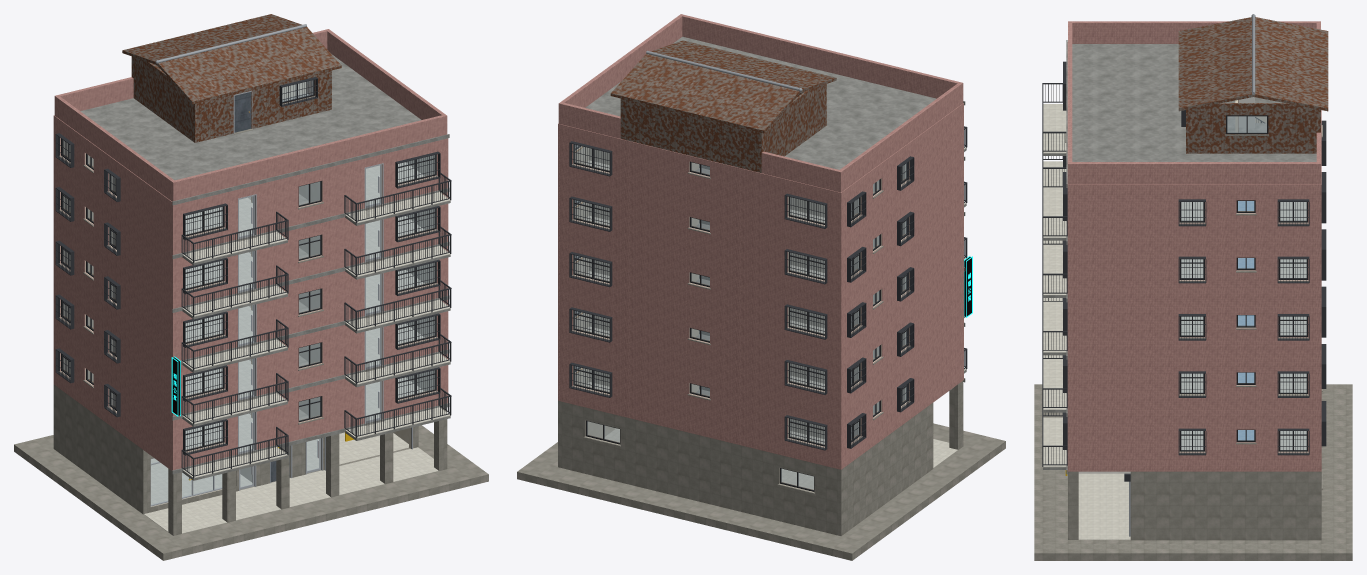
Rendered from b_apt_block_6f.gltf.
The picture shows the model from 3 angles, left to right: view 1: azimuth 30°, elevation 25°; view 2: azimuth 150°, elevation 25°; view 3: azimuth 270°, elevation 25°; orthographic projection. The views are drawn at different scales.
Parts seen in each view (by area): view 1: S_apt_block_6f, D_apt_block_6f_F6_S3_Door0, D_apt_block_6f_F6_S1_Door0, D_apt_block_6f_Shack_S0_Door0, D_apt_block_6f_F5_S3_Door0, D_apt_block_6f_F2_S3_Door0, D_apt_block_6f_F3_S3_Door0, D_apt_block_6f_F2_S1_Door0, D_apt_block_6f_F4_S3_Door0, D_apt_block_6f_F5_S1_Door0, D_apt_block_6f_F3_S1_Door0, D_apt_block_6f_F4_S1_Door0; view 2: S_apt_block_6f; view 3: S_apt_block_6f.
Boxes of the visible parts, x1=… form: S_apt_block_6f: x1=14, y1=14, x2=488, y2=560; D_apt_block_6f_F6_S3_Door0: x1=365, y1=164, x2=381, y2=207; D_apt_block_6f_F6_S1_Door0: x1=238, y1=195, x2=254, y2=238; D_apt_block_6f_Shack_S0_Door0: x1=234, y1=92, x2=250, y2=132; D_apt_block_6f_F5_S3_Door0: x1=365, y1=220, x2=381, y2=261; D_apt_block_6f_F2_S3_Door0: x1=365, y1=381, x2=381, y2=422; D_apt_block_6f_F3_S3_Door0: x1=365, y1=327, x2=381, y2=369; D_apt_block_6f_F2_S1_Door0: x1=238, y1=412, x2=254, y2=453; D_apt_block_6f_F4_S3_Door0: x1=365, y1=273, x2=381, y2=315; D_apt_block_6f_F5_S1_Door0: x1=238, y1=251, x2=254, y2=292; D_apt_block_6f_F3_S1_Door0: x1=238, y1=358, x2=254, y2=400; D_apt_block_6f_F4_S1_Door0: x1=238, y1=304, x2=254, y2=346; S_apt_block_6f: x1=517, y1=14, x2=1005, y2=560; S_apt_block_6f: x1=1034, y1=14, x2=1352, y2=560.
Bounding box in the file's own units: 19 × 22.41 × 15.1.
Materials: 26 (12 with a texture image).
